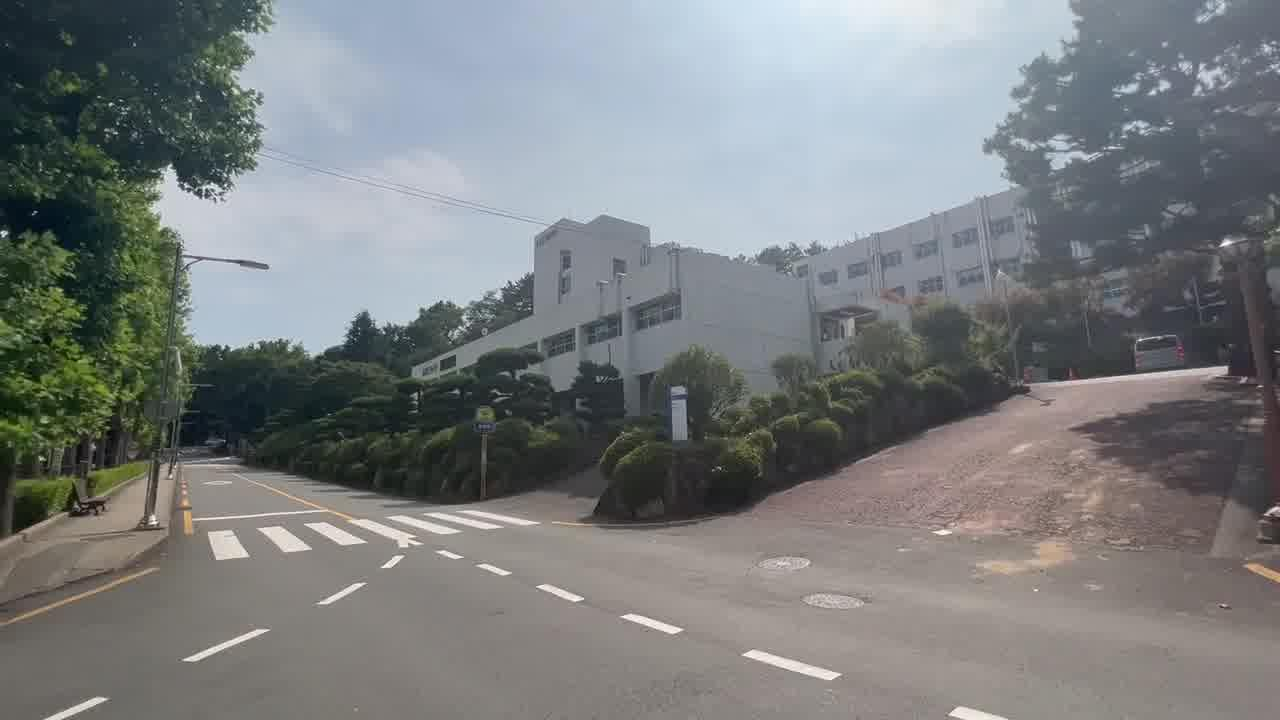building: (422, 218, 832, 396)
